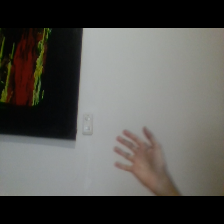left: (104, 119, 179, 192)
